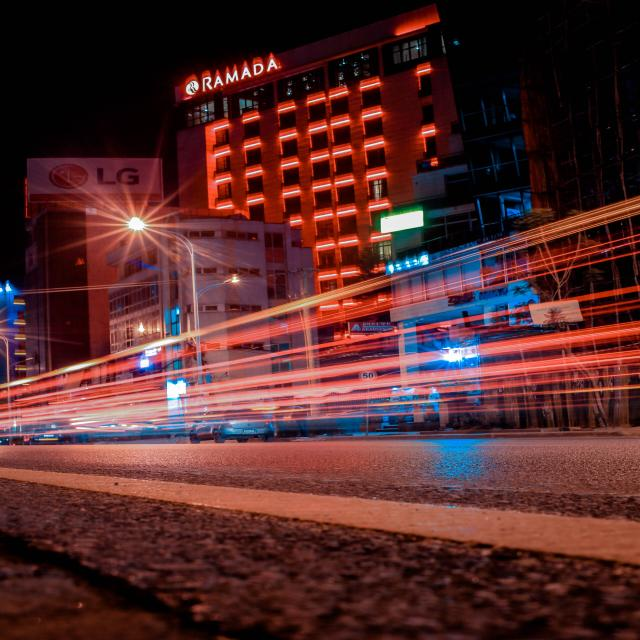Street Light: (127, 218, 206, 439)
